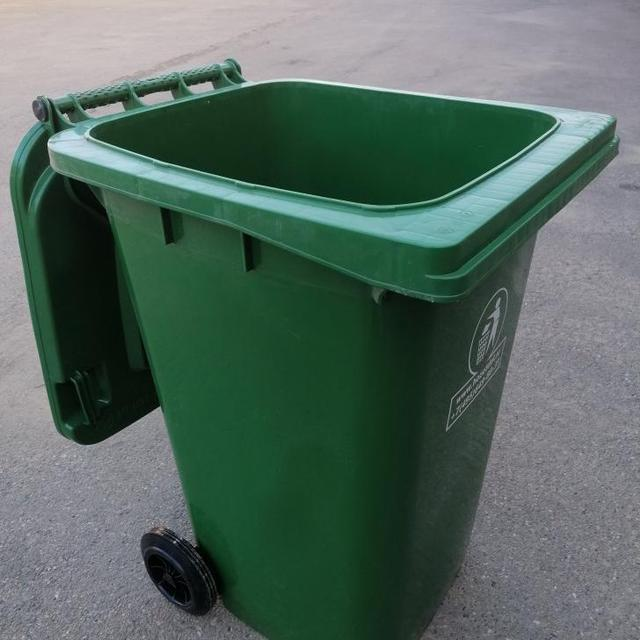Trash_Can_Empty: (45, 77, 618, 640)
